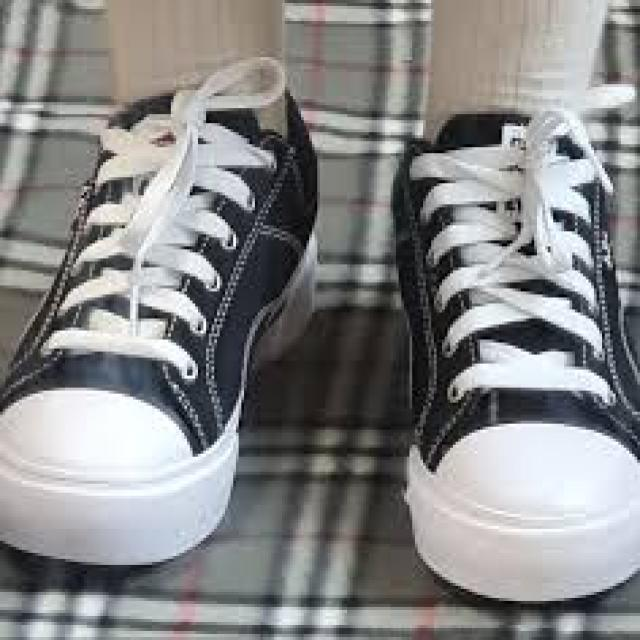shoe: (0, 64, 329, 574), (381, 94, 640, 603)
